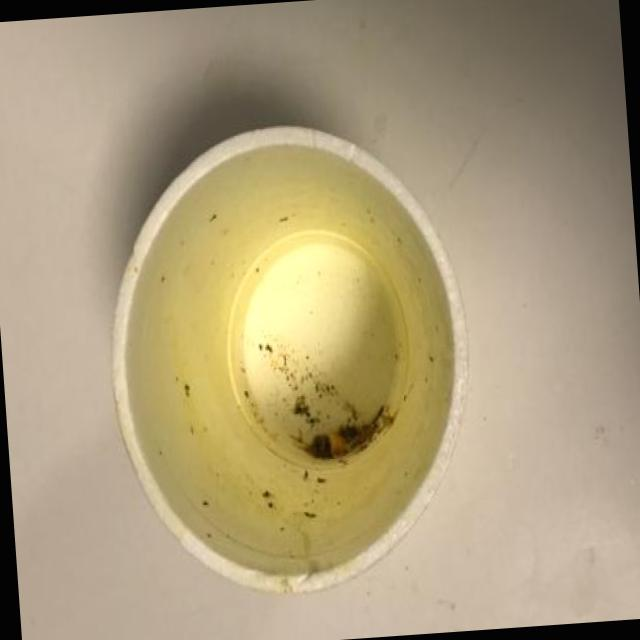hop_nhua: (108, 122, 470, 594)
